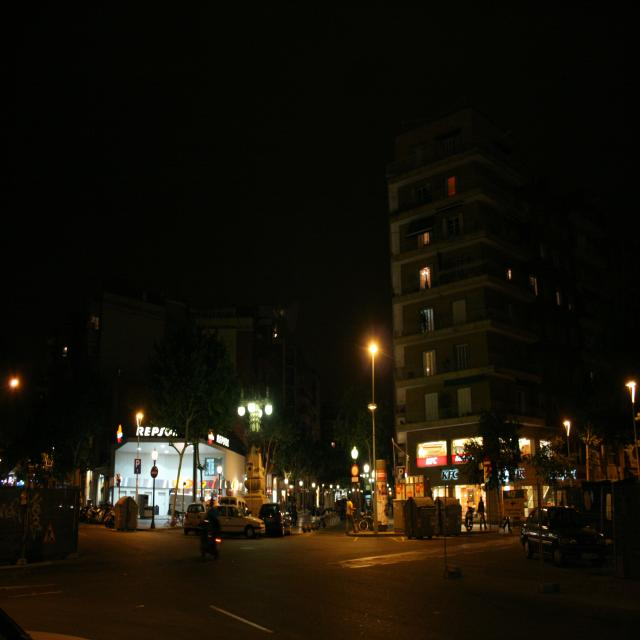Car: (522, 477, 610, 576), (201, 481, 283, 548)
